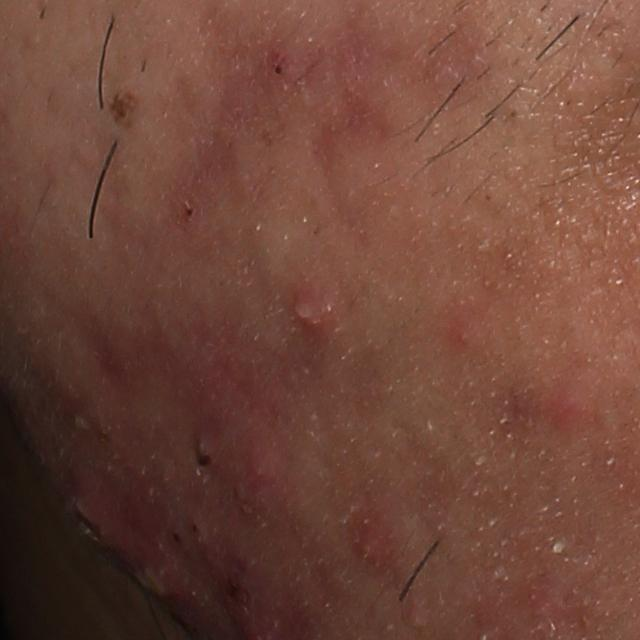comedo: (194, 442, 222, 469), (269, 58, 288, 80)
nevus: (98, 84, 142, 129)
nodule: (66, 463, 195, 618)
papule: (225, 418, 288, 517), (347, 513, 391, 577), (549, 381, 596, 427)
pustule: (288, 286, 337, 334)
